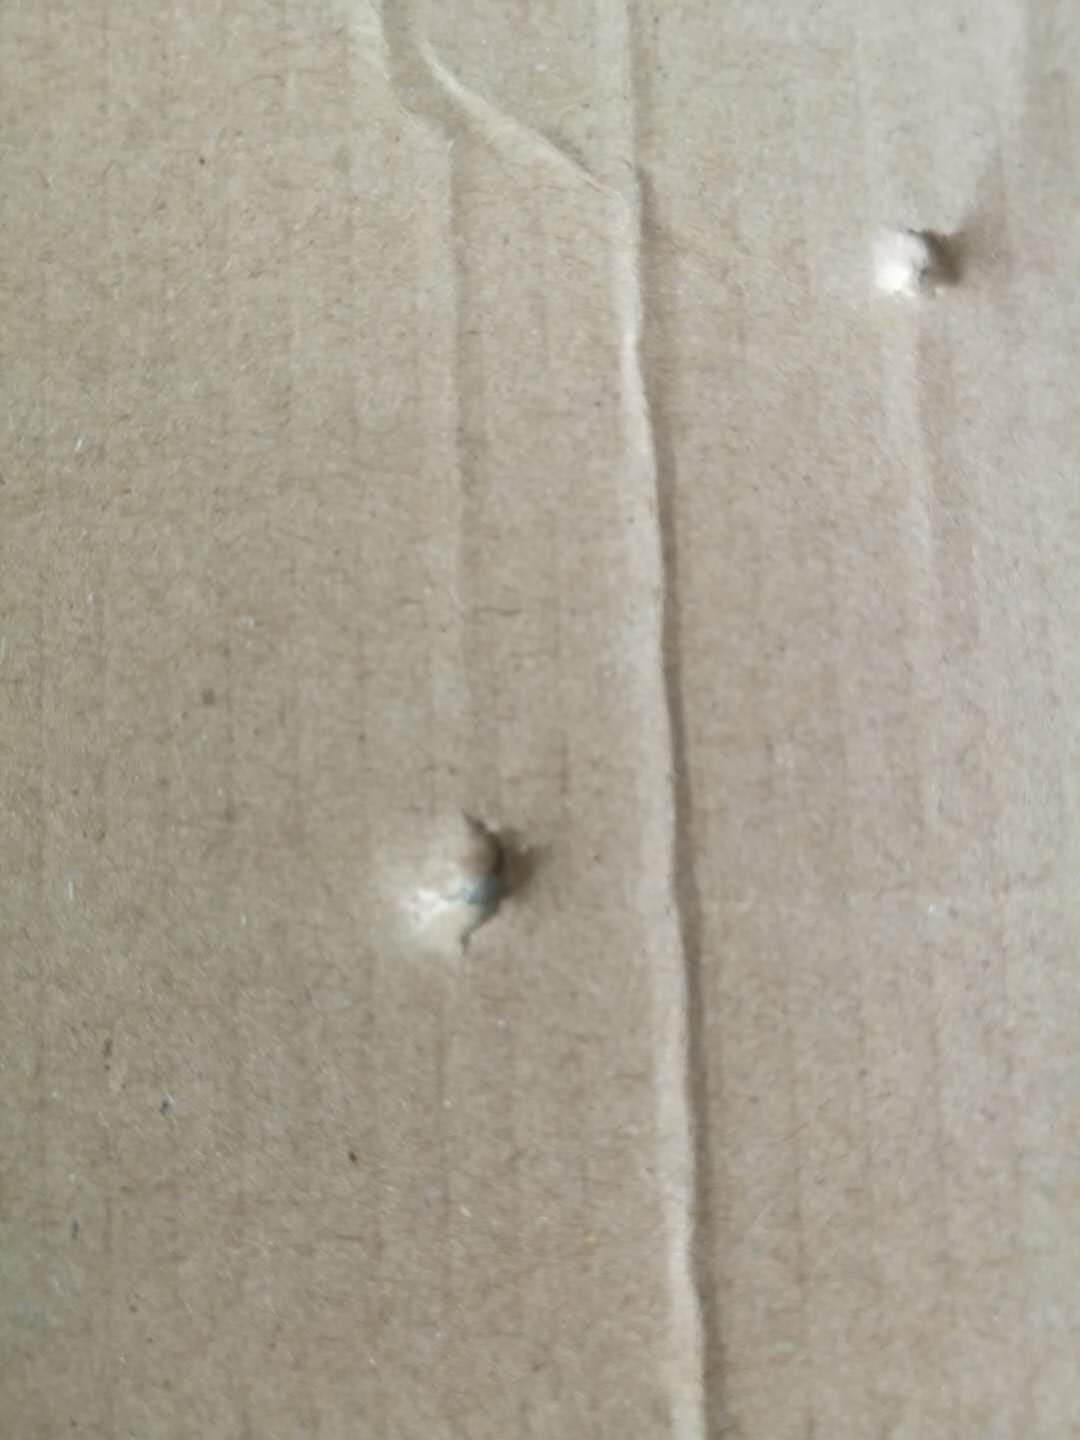defect: (600, 10, 795, 1435), (349, 5, 626, 739), (341, 747, 591, 996), (845, 141, 1029, 328)
